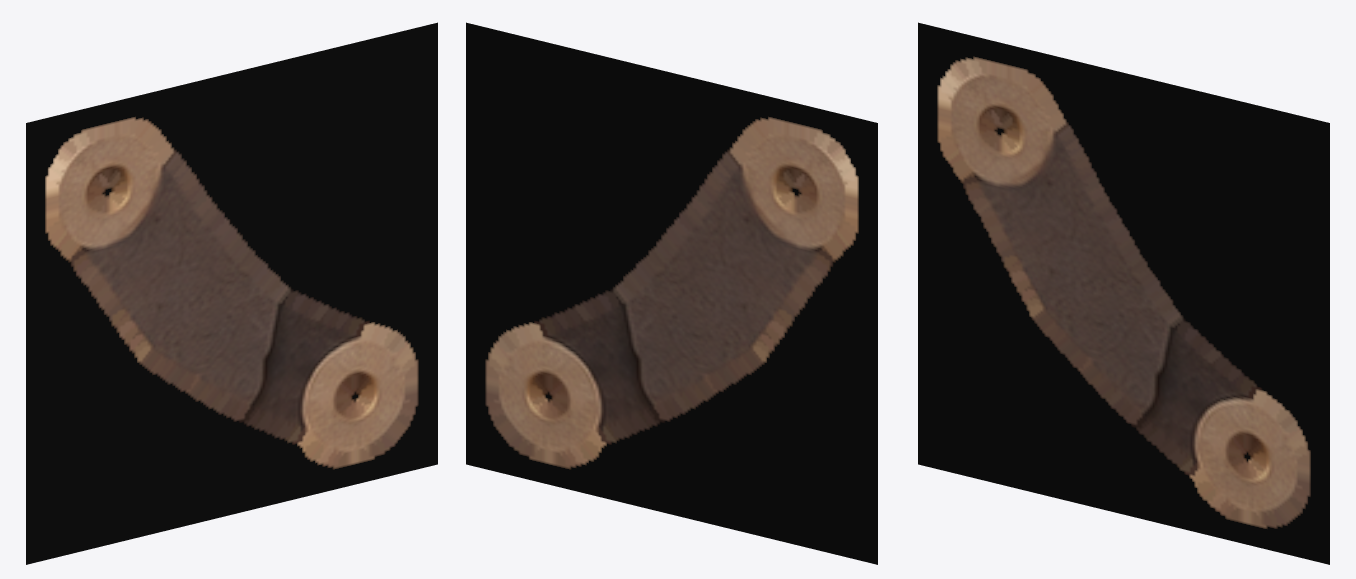
Rendered from Variant07Upper.glb.
The picture shows the model from 3 angles, left to right: view 1: azimuth 30°, elevation 25°; view 2: azimuth 150°, elevation 25°; view 3: azimuth 330°, elevation 25°; orthographic projection.
Visible parts, largest first — view 1: PaperVolume; view 2: PaperVolume; view 3: PaperVolume.
Part boxes in pixels (left/top/right/bottom): PaperVolume: left=26, top=22, right=437, bottom=564; PaperVolume: left=466, top=22, right=877, bottom=564; PaperVolume: left=918, top=22, right=1329, bottom=564.
Size of the model in its own units: 1.62 by 1.66 by 0.08.
3 materials, 2 textured.
